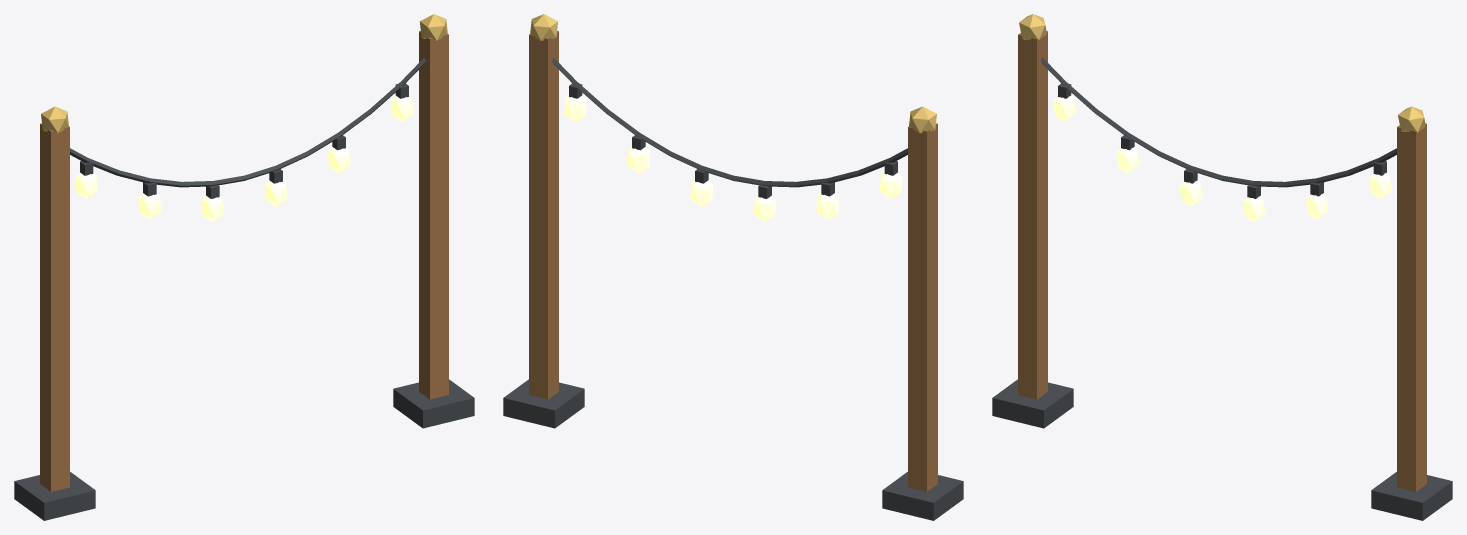
Rendered from string-lights.glb.
The picture shows the model from 3 angles, left to right: view 1: azimuth 30°, elevation 25°; view 2: azimuth 150°, elevation 25°; view 3: azimuth 330°, elevation 25°; orthographic projection.
Visible parts, largest first — view 1: string-lights; view 2: string-lights; view 3: string-lights.
Part boxes in pixels (box(x1,y1,x2,y2)): string-lights: box(14, 14, 474, 520); string-lights: box(503, 14, 963, 520); string-lights: box(992, 14, 1452, 520).
Size of the model in its own units: 0.5 by 0.441 by 0.06.
